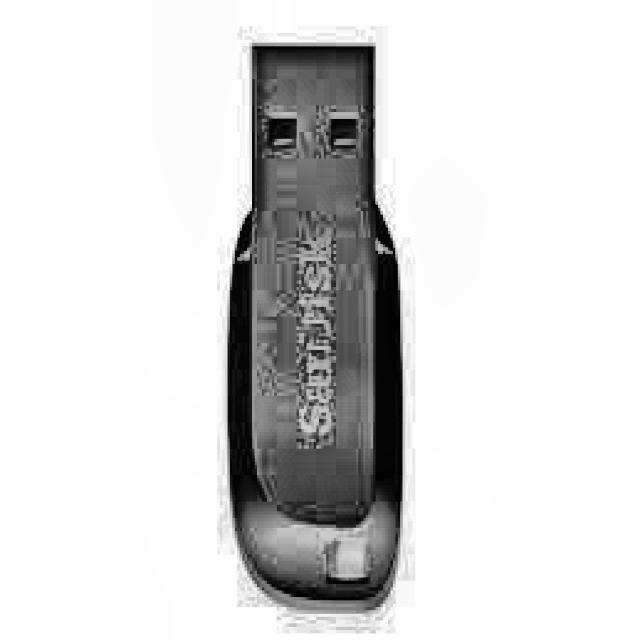Mug: (126, 13, 583, 600)
